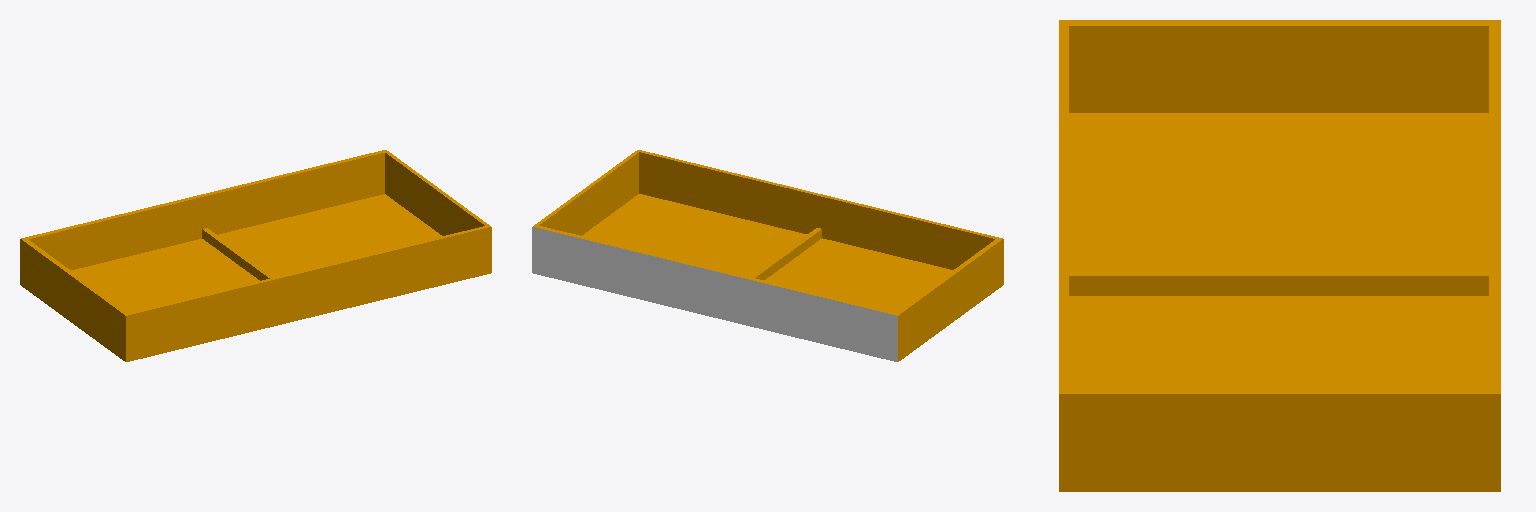
The robot description file, URDF, robot "box2":
<?xml version="1.0" ?>
<robot name="box2">
  <link name="box2__body">
    <inertial>
      <mass value="0"/>
      <origin rpy="0 0 0" xyz="0 0 0"/>
      <inertia ixx="0" ixy="0" ixz="0" iyy="0" iyz="0" izz="0"/>
    </inertial>
    <collision name="box2__collision_0">
      <origin rpy="0 0 0" xyz="-0.005  0     0"/>
      <geometry>
        <box size="0.42 0.21 0.005"/>
      </geometry>
    </collision>
    <visual name="box2__visual">
      <origin rpy="0 0 0" xyz="0    0    0.015"/>
      <geometry>
        <mesh filename="model://box2/model.dae" scale="1 1 1"/>
      </geometry>
    </visual>
  </link>
</robot>

--- What the picture shows (computed from the rendered views, not written in the file) ---
Views: 3 orthographic renders of the robot side by side, from view 1: azimuth 30°, elevation 25°; view 2: azimuth 150°, elevation 25°; view 3: azimuth 270°, elevation 25°.
Robot: box2 — 1 links, 0 joints (none); root link box2__body; default pose: all joints at 0.
Visible links, largest first — view 1: box2__body; view 2: box2__body; view 3: box2__body.
Boxes of the visible links, x1,y1,x2,y2 form: box2__body: [20, 150, 491, 361]; box2__body: [532, 150, 1003, 361]; box2__body: [1059, 20, 1500, 491].
Size in the robot's own frame: 0.41 by 0.205 by 0.05 metres.
Meshes: 1 distinct files referenced, 1 mesh visuals loaded (1 Collada DAE).
